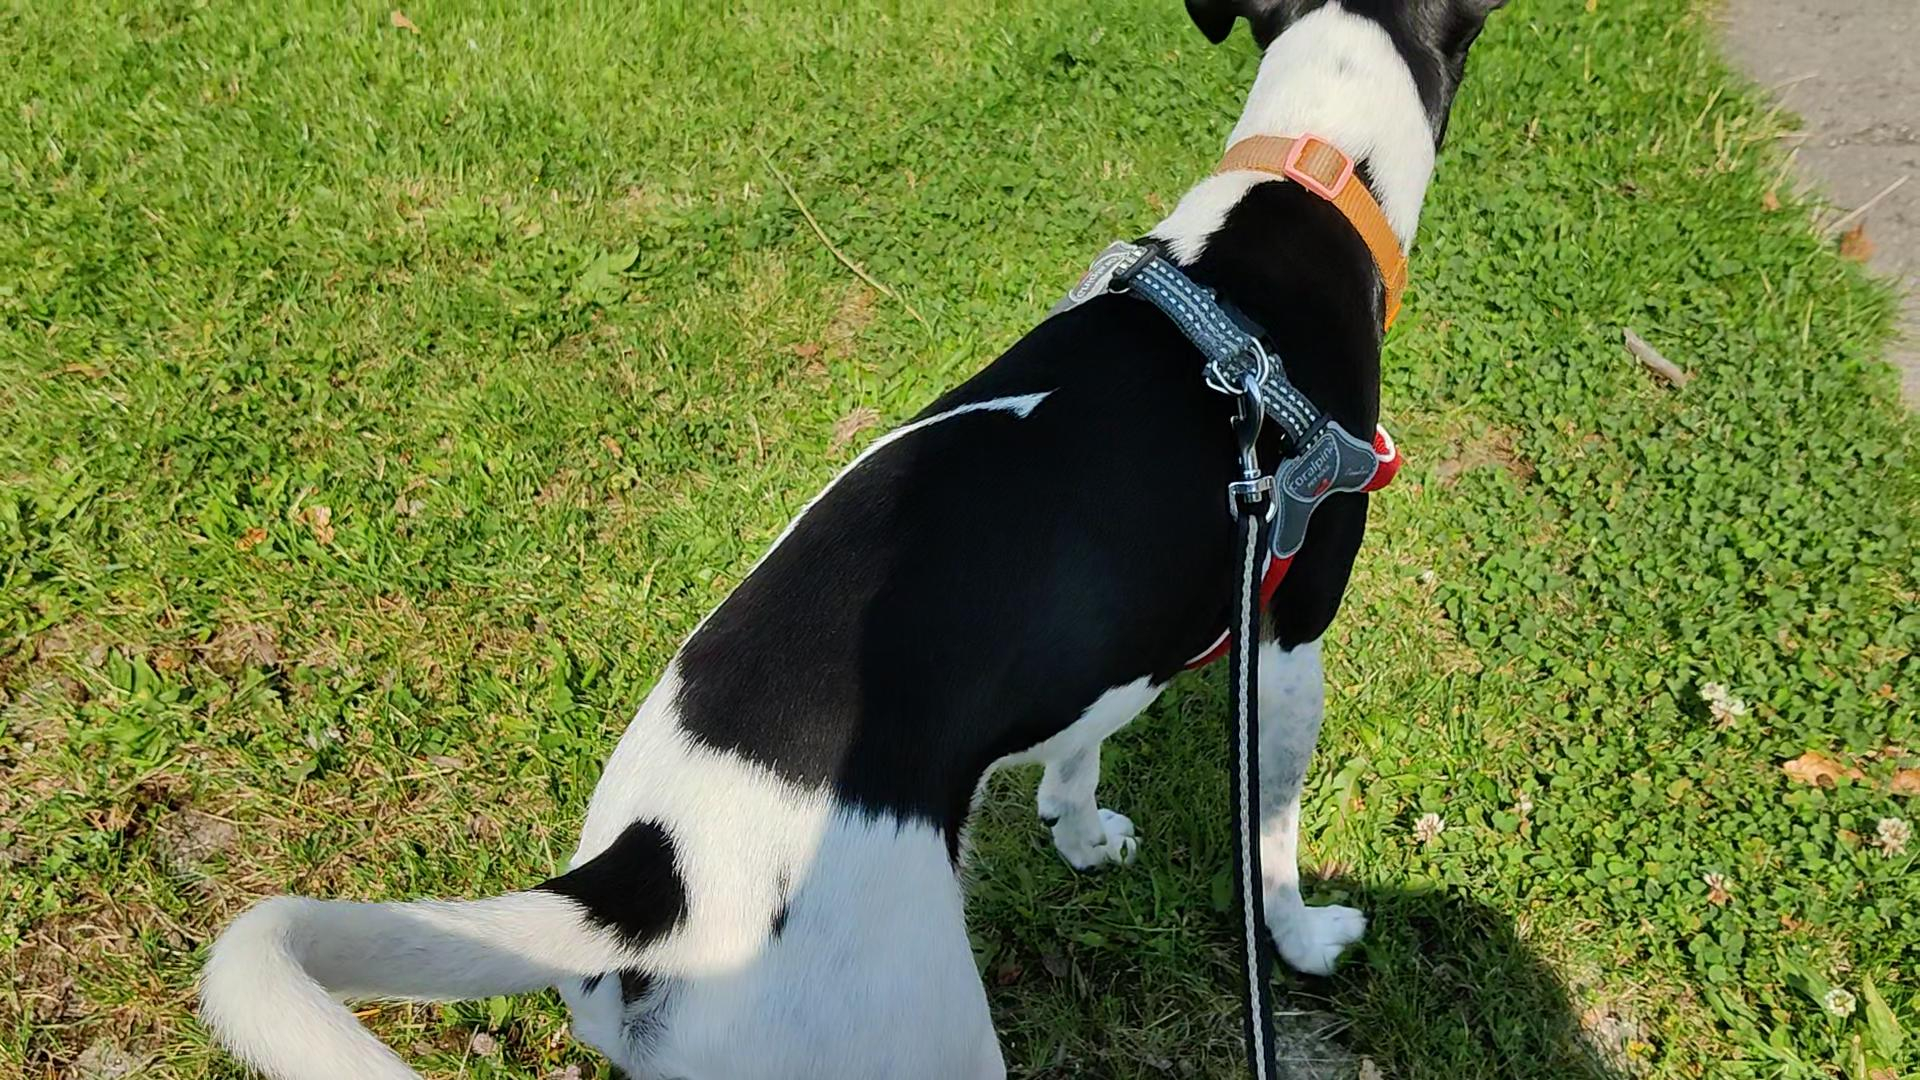Dog: (189, 0, 1519, 1079)
